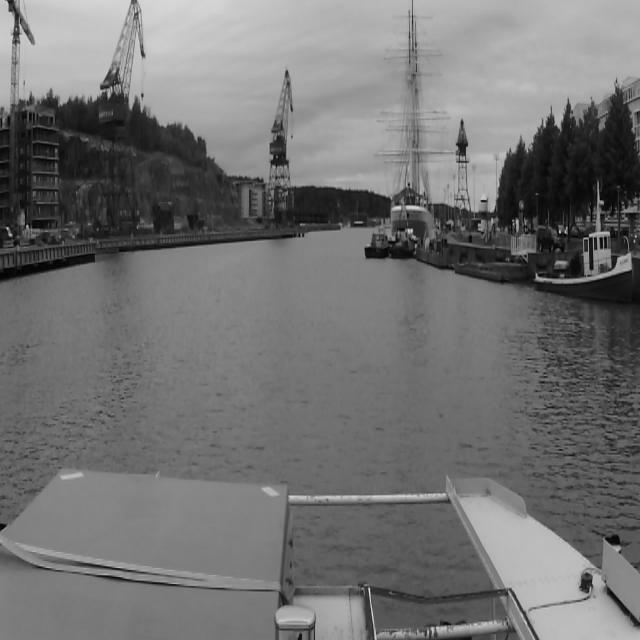ship: (532, 180, 634, 306), (390, 0, 434, 231), (364, 230, 389, 260)
